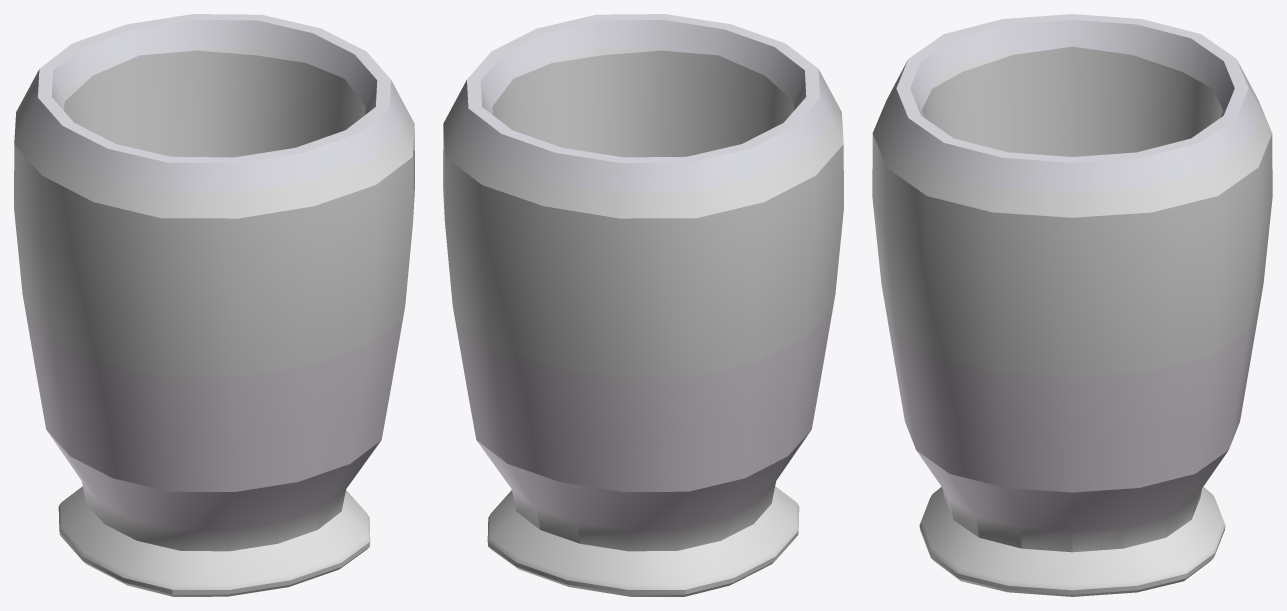
Rendered from SM_Glass.fbx.
The picture shows the model from 3 angles, left to right: view 1: azimuth 30°, elevation 25°; view 2: azimuth 150°, elevation 25°; view 3: azimuth 270°, elevation 25°; orthographic projection.
Parts seen in each view (by area): view 1: SM_Glass; view 2: SM_Glass; view 3: SM_Glass.
Part boxes in pixels (x1=…): SM_Glass: x1=14, y1=14, x2=414, y2=596; SM_Glass: x1=443, y1=14, x2=843, y2=596; SM_Glass: x1=872, y1=14, x2=1272, y2=596.
Size of the model in its own units: 3.58 by 4.42 by 3.58.
